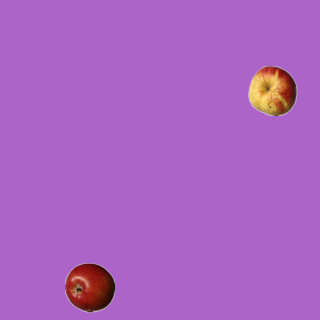Apple Braeburn: (64, 262, 114, 312)
Apple Red Yellow 1: (247, 65, 297, 115)
